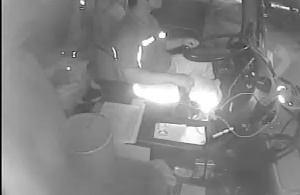paper: (154, 120, 208, 147)
